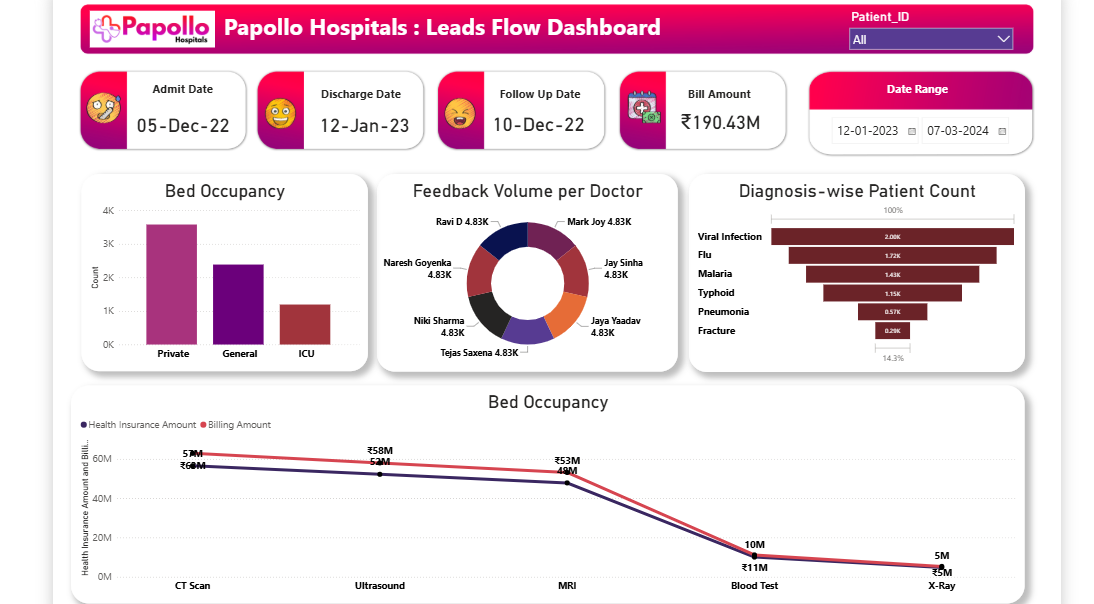

The dashboard page shown, as its layout file describes it:
{"tool":"powerbi","page":{"name":"dashboard","canvas":[1680,1050],"ordinal":0},"visuals":[{"type":"textbox","box":[280,27.1,755.7,74.3],"z":0},{"type":"image","box":[2636.7,100,623.3,150],"z":1000},{"type":"slicer","fields":{"Values":["Sheet1.Patient_ID"]},"box":[2400,373.3,793.3,420],"z":2000},{"type":"card","fields":{"Values":["Min(Sheet1.Admit_Date)"]},"box":[437.6,198.8,162.9,42.8],"z":3000},{"type":"card","fields":{"Values":["Min(Sheet1.Discharge_Date)"]},"box":[129.8,198.8,172.6,42.8],"z":4000},{"type":"card","fields":{"Values":["Min(Sheet1.Followup Date)"]},"box":[724.3,198.6,167.1,42.9],"z":5000},{"type":"textbox","box":[152.9,145.7,127.1,57.1],"z":6000},{"type":"textbox","box":[437.1,151.4,151.4,37.1],"z":7000},{"type":"textbox","box":[732.9,151.4,158.6,37.1],"z":8000},{"type":"textbox","box":[1035.7,151.4,151.4,37.1],"z":9000},{"type":"card","fields":{"Values":["Sum(Sheet1.Billing Amount)"]},"box":[1031.4,194.3,158.6,42.9],"z":10000},{"type":"image","box":[50,157.1,68.6,74.3],"z":11000},{"type":"image","box":[348.6,172.9,62.9,62.9],"z":12000},{"type":"image","box":[640,171.4,77.1,62.9],"z":13000},{"type":"image","box":[951.4,158.6,65.7,71.4],"z":14000},{"type":"columnChart","title":"Bed Occupancy","fields":{"Category":["Sheet1.Bed_Occupancy"],"Y":["CountNonNull(Sheet1.Bed_Occupancy)"]},"box":[47.1,305.7,477.1,328.6],"z":15000},{"type":"donutChart","title":"Feedback Volume per Doctor","fields":{"Category":["Sheet1.Doctor"],"Y":["Sum(Sheet1.Feedback)"]},"box":[540.2,305.2,501,329.5],"z":16000},{"type":"funnel","title":"Diagnosis-wise Patient Count","fields":{"Category":["Sheet1.Diagnosis"],"Y":["CountNonNull(Sheet1.Diagnosis)"]},"box":[1060,305.7,560,330],"z":17000},{"type":"image","box":[30.2,27.8,271.4,71.9],"z":18000},{"type":"lineChart","title":"Bed Occupancy","fields":{"Y":["Sum(Sheet1.Health Insurance Amount)","Sum(Sheet1.Billing Amount)"],"Category":["Sheet1.Test"]},"box":[31.1,656.3,1589.5,363.3],"z":19000},{"type":"slicer","fields":{"Values":["Sheet1.Admit_Date"]},"box":[1284.3,201.2,360.6,68.9],"z":20000},{"type":"slicer","fields":{"Values":["Sheet1.Patient_ID"]},"box":[1317.1,24.3,292.9,82.9],"z":21000},{"type":"textbox","box":[1365.7,145.7,151.4,37.1],"z":22000}]}

Visuals, with their boxes on the page's 1680x1050 design canvas (x1, y1, x2, y2). These are canvas units, not pixel positions in the 1094x604 screenshot, which may show the page scaled, cropped or inside an application window:
textbox: Rect(280, 27, 1036, 101)
image: Rect(2637, 100, 3260, 250)
slicer - Sheet1.Patient_ID: Rect(2400, 373, 3193, 793)
card - Min(Sheet1.Admit_Date): Rect(438, 199, 600, 242)
card - Min(Sheet1.Discharge_Date): Rect(130, 199, 302, 242)
card - Min(Sheet1.Followup Date): Rect(724, 199, 891, 242)
textbox: Rect(153, 146, 280, 203)
textbox: Rect(437, 151, 588, 188)
textbox: Rect(733, 151, 892, 188)
textbox: Rect(1036, 151, 1187, 188)
card - Sum(Sheet1.Billing Amount): Rect(1031, 194, 1190, 237)
image: Rect(50, 157, 119, 231)
image: Rect(349, 173, 412, 236)
image: Rect(640, 171, 717, 234)
image: Rect(951, 159, 1017, 230)
"Bed Occupancy" columnChart: Rect(47, 306, 524, 634)
"Feedback Volume per Doctor" donutChart: Rect(540, 305, 1041, 635)
"Diagnosis-wise Patient Count" funnel: Rect(1060, 306, 1620, 636)
image: Rect(30, 28, 302, 100)
"Bed Occupancy" lineChart: Rect(31, 656, 1621, 1020)
slicer - Sheet1.Admit_Date: Rect(1284, 201, 1645, 270)
slicer - Sheet1.Patient_ID: Rect(1317, 24, 1610, 107)
textbox: Rect(1366, 146, 1517, 183)
